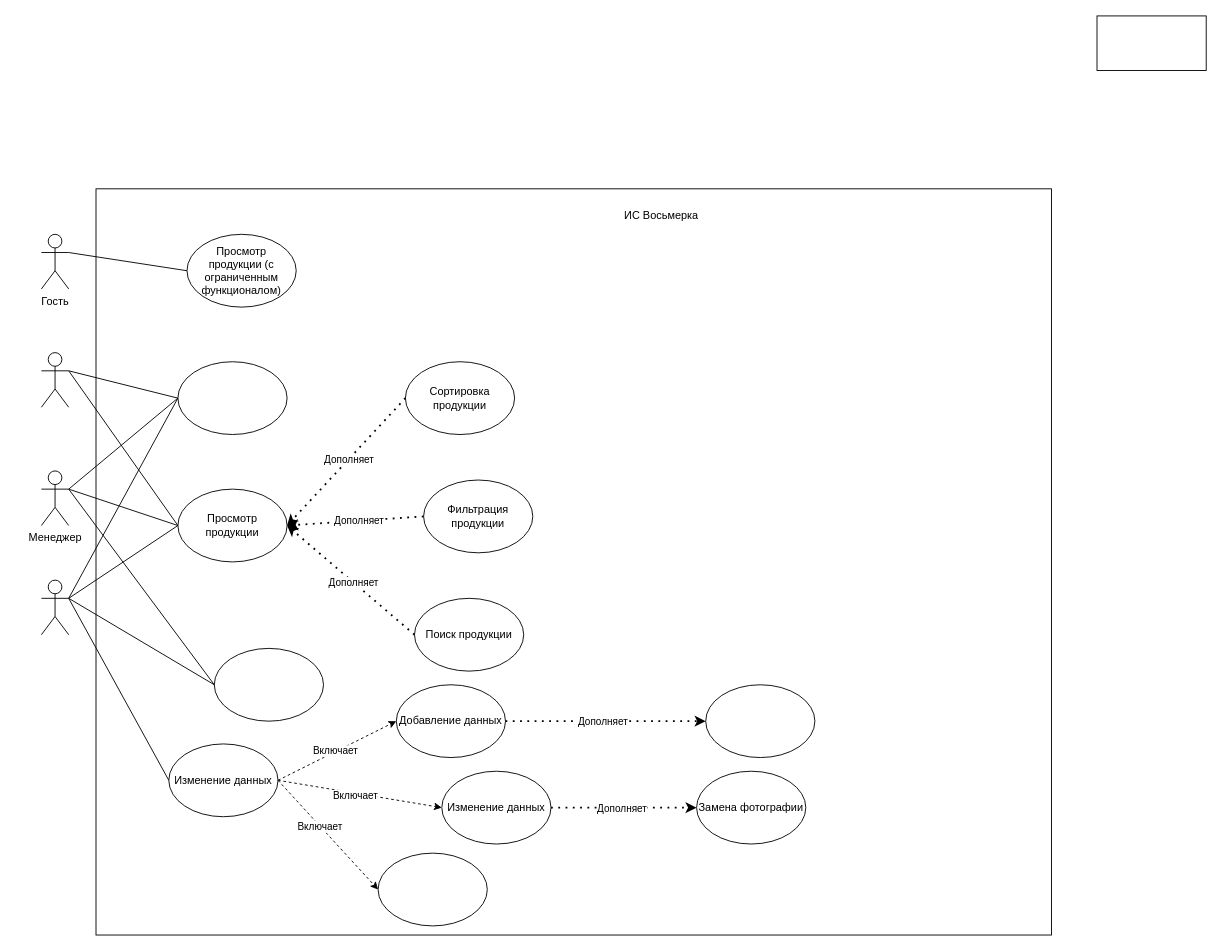
The diagram is 1222 pixels wide and 951 high, and some of its shapes have lost their labels. Here are the shapes that lost their labels. From the top down, the centre of each, then its label:
At [54,379]: "Агент".
At [232,398]: "Авторизация".
At [54,607]: "Администратор".
At [268,684]: "Просмотр материалов".
At [760,721]: "Загрузка фотографии".
At [432,889]: "Удаление данных".
